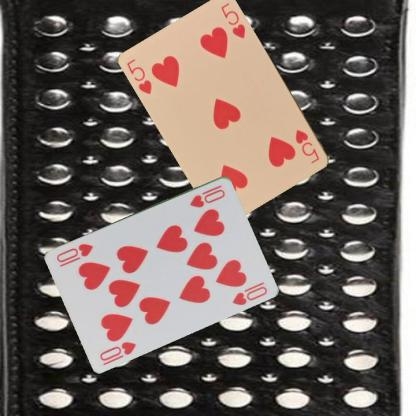10h: (187, 182, 227, 209), (97, 338, 138, 362)
5h: (124, 57, 154, 96), (293, 127, 321, 165)
